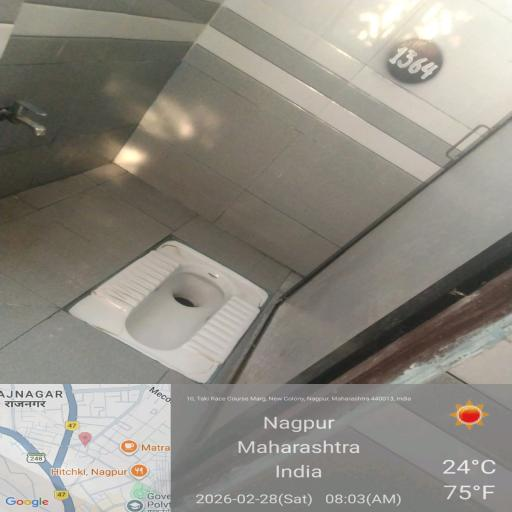clean_floor: (22, 11, 490, 253), (22, 342, 458, 512)
clean_indian: (84, 237, 284, 411)
